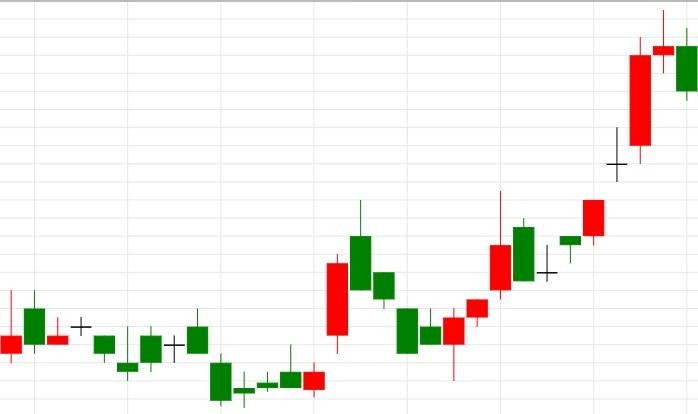evening_star_fall: (442, 9, 698, 381)
three_white_soldiers_rise: (349, 191, 512, 381)
